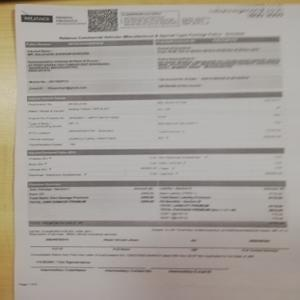image: (21, 13, 55, 23)
table: (25, 92, 284, 150), (27, 36, 283, 91), (26, 180, 287, 223), (25, 148, 285, 180)
